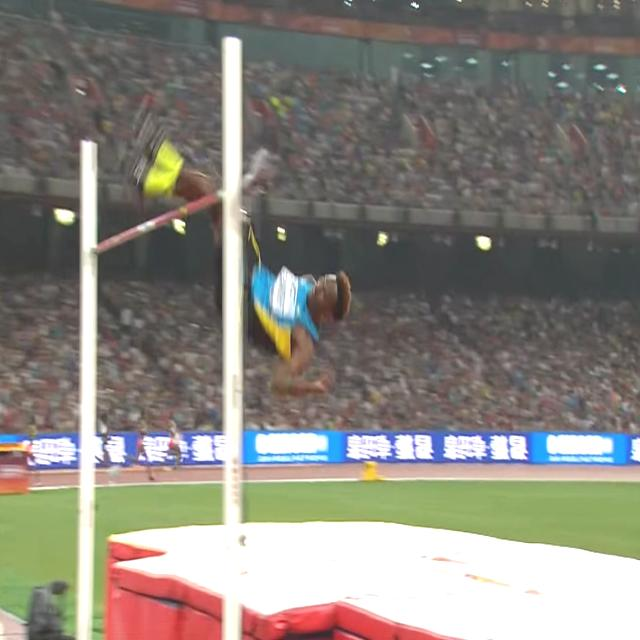land: (120, 95, 351, 394)
